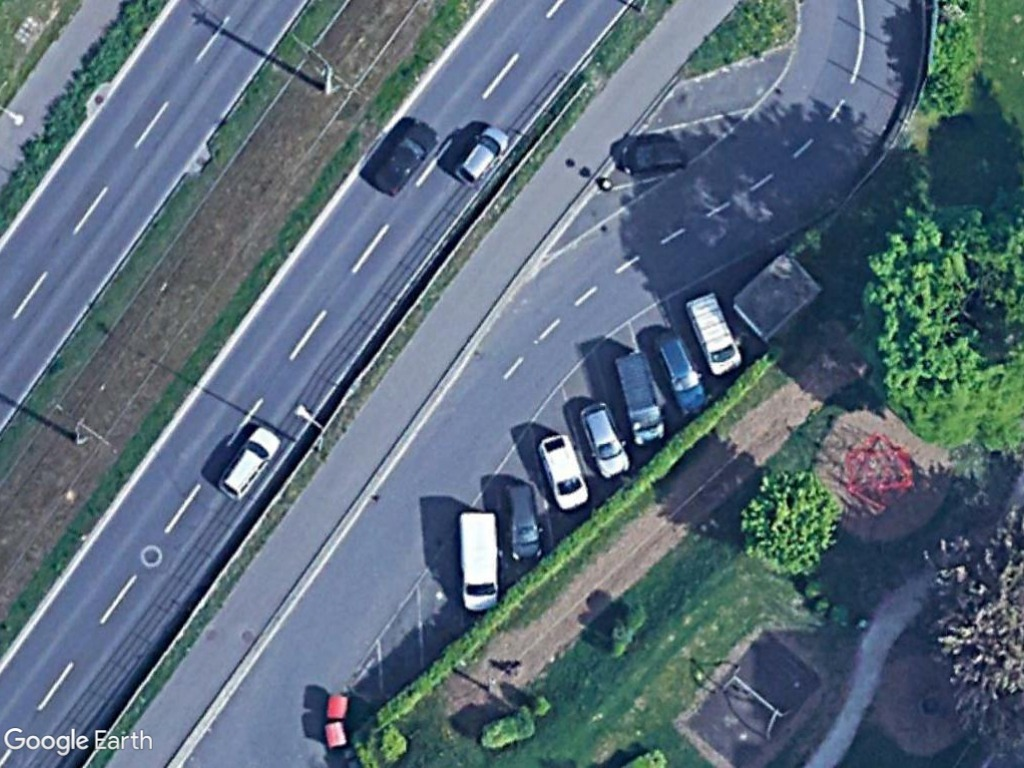car: (210, 422, 284, 504), (650, 329, 712, 417), (576, 395, 632, 483), (535, 432, 591, 516), (449, 120, 514, 192), (503, 480, 545, 563)
van: (609, 349, 671, 448), (367, 122, 442, 198), (686, 290, 745, 380), (458, 507, 503, 613)
